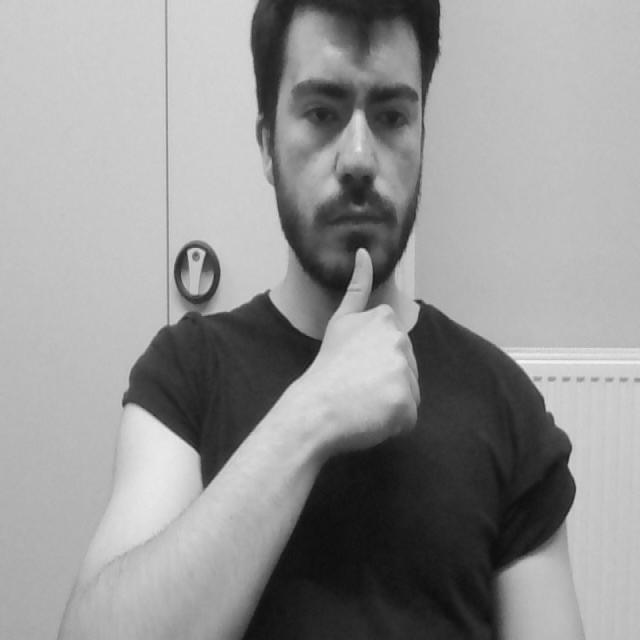Baba: (319, 187, 398, 306)
